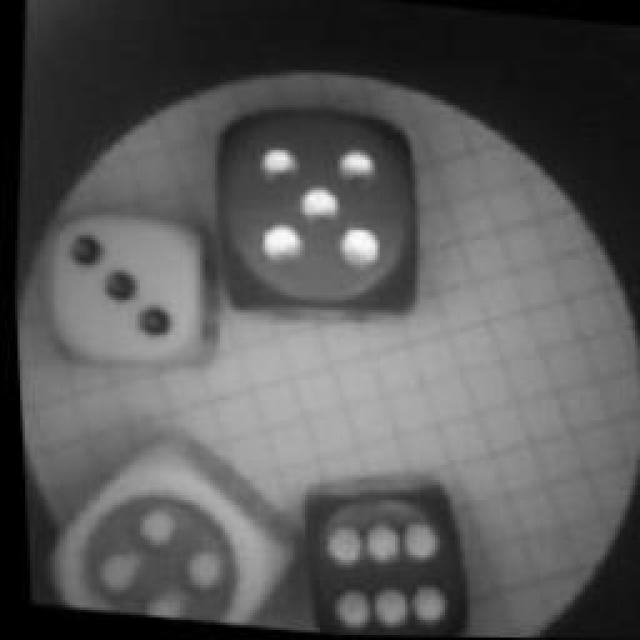dice_3: (24, 194, 224, 384)
dice_4: (36, 422, 302, 632)
dice_5: (189, 85, 439, 343)
dice_6: (284, 454, 484, 638)
